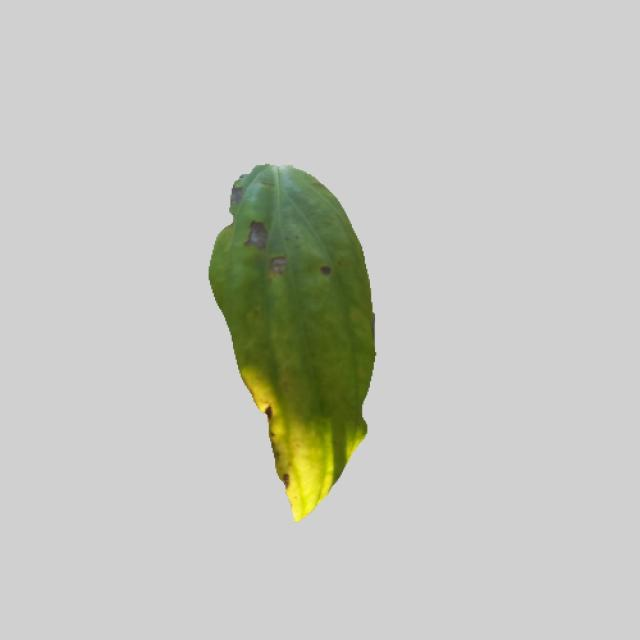yellow-mottle-virus: (200, 164, 380, 517)
